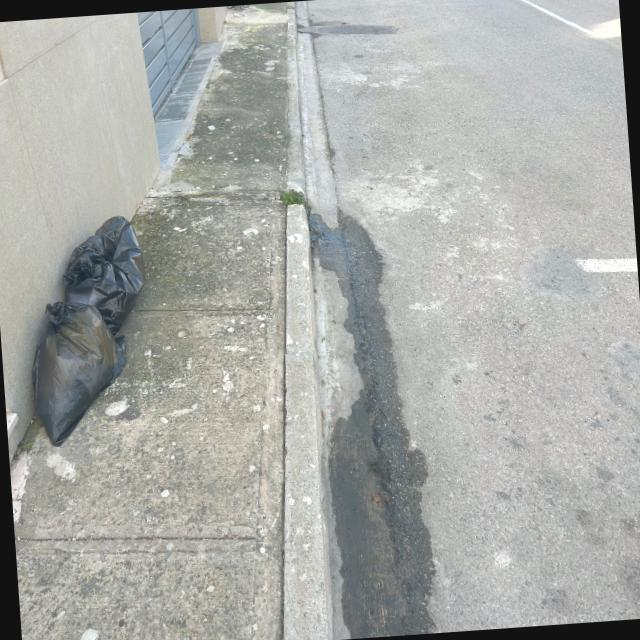black_bag: (28, 298, 135, 450), (55, 209, 147, 331)
